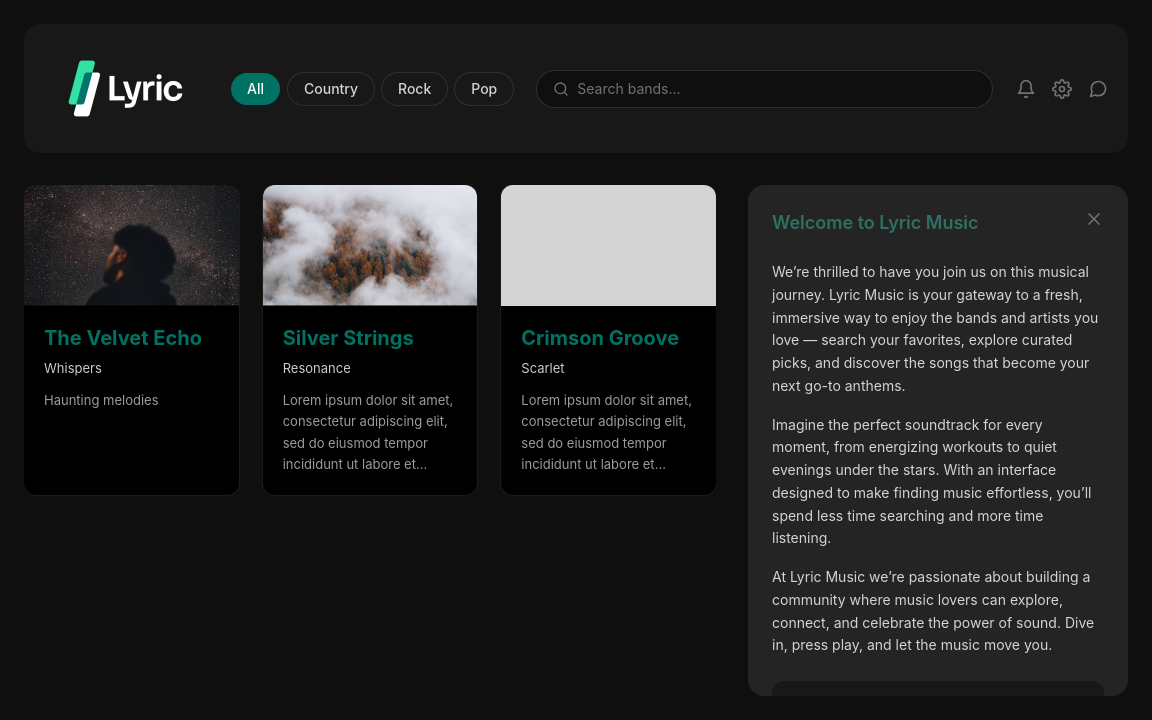
it: App — catalog behavior › search narrows the rendered cards by name
This screenshot has width=1152, height=720.
Expected: the button "The Velvet Echo Whispers Haunting melodies" is shown, 24,185 -> 239,495
In the search field labelled "Search bands…": (777, 88) 577,78 -> 976,98, type "silver"
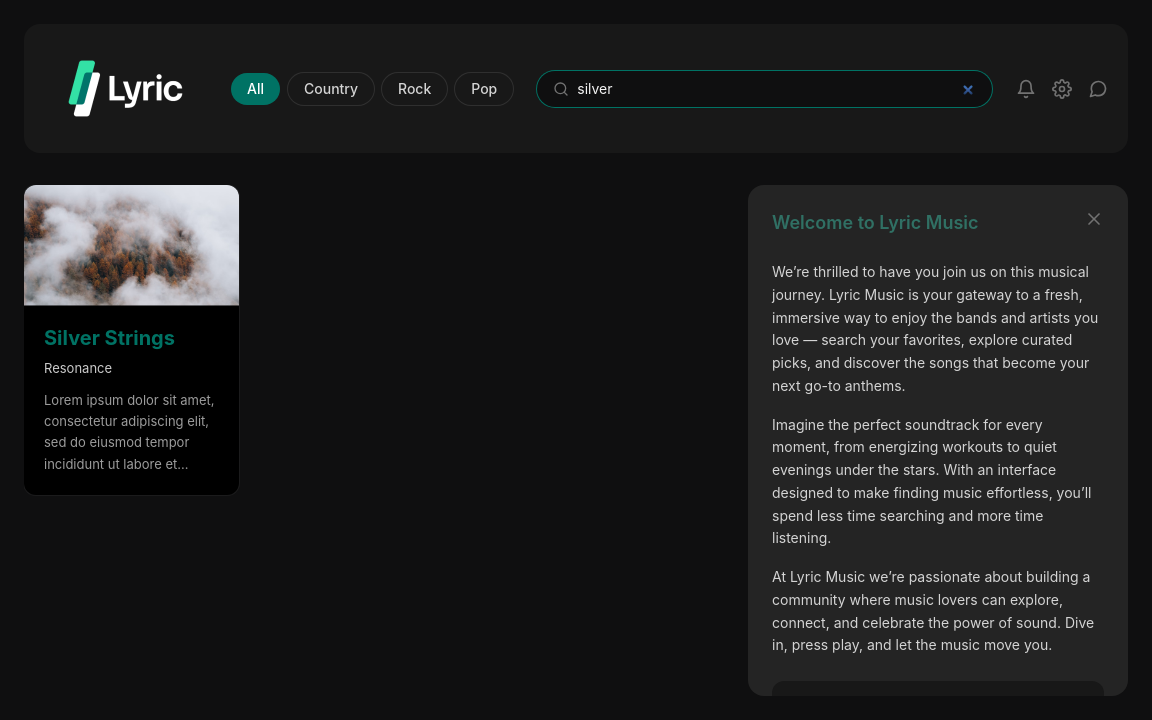
Expected: the button "Silver Strings" is shown, 24,185 -> 239,495
Expected: the button "The Velvet Echo" is gone
Expected: the button "Crimson Groove" is gone
